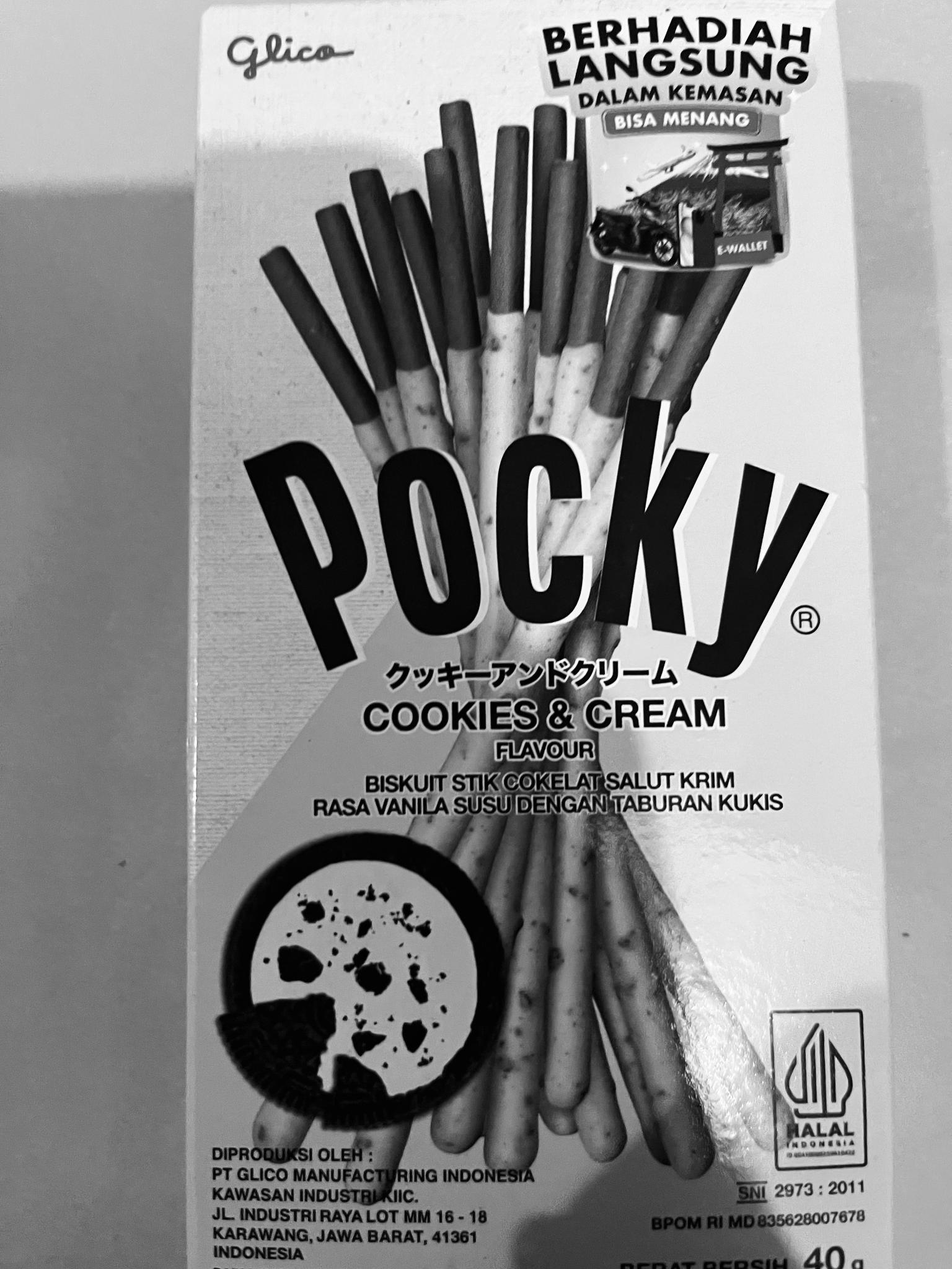Kertas: (186, 0, 900, 1268)
